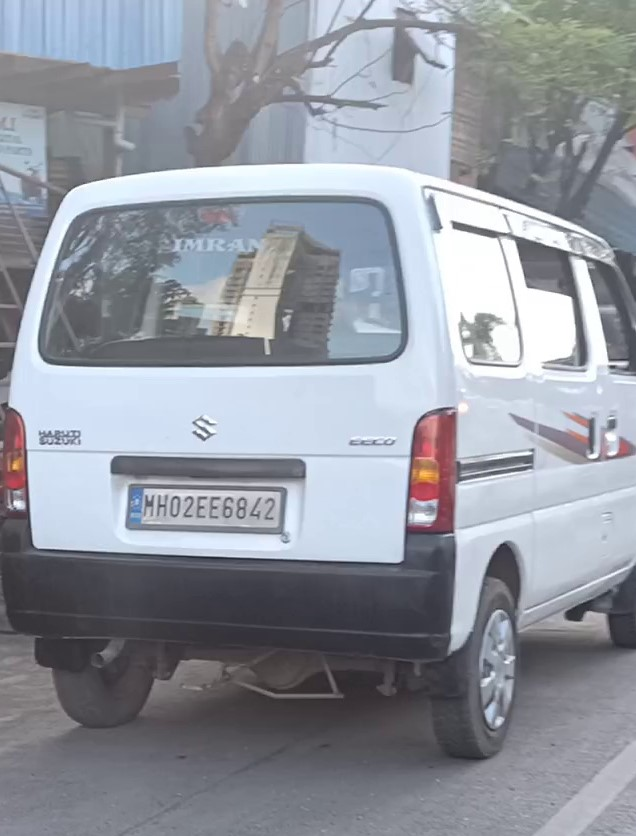MH02EE6842: (127, 486, 282, 527)
